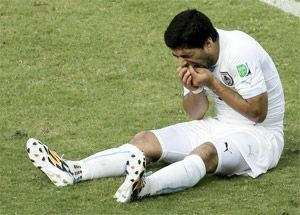bending: (28, 5, 282, 203)
